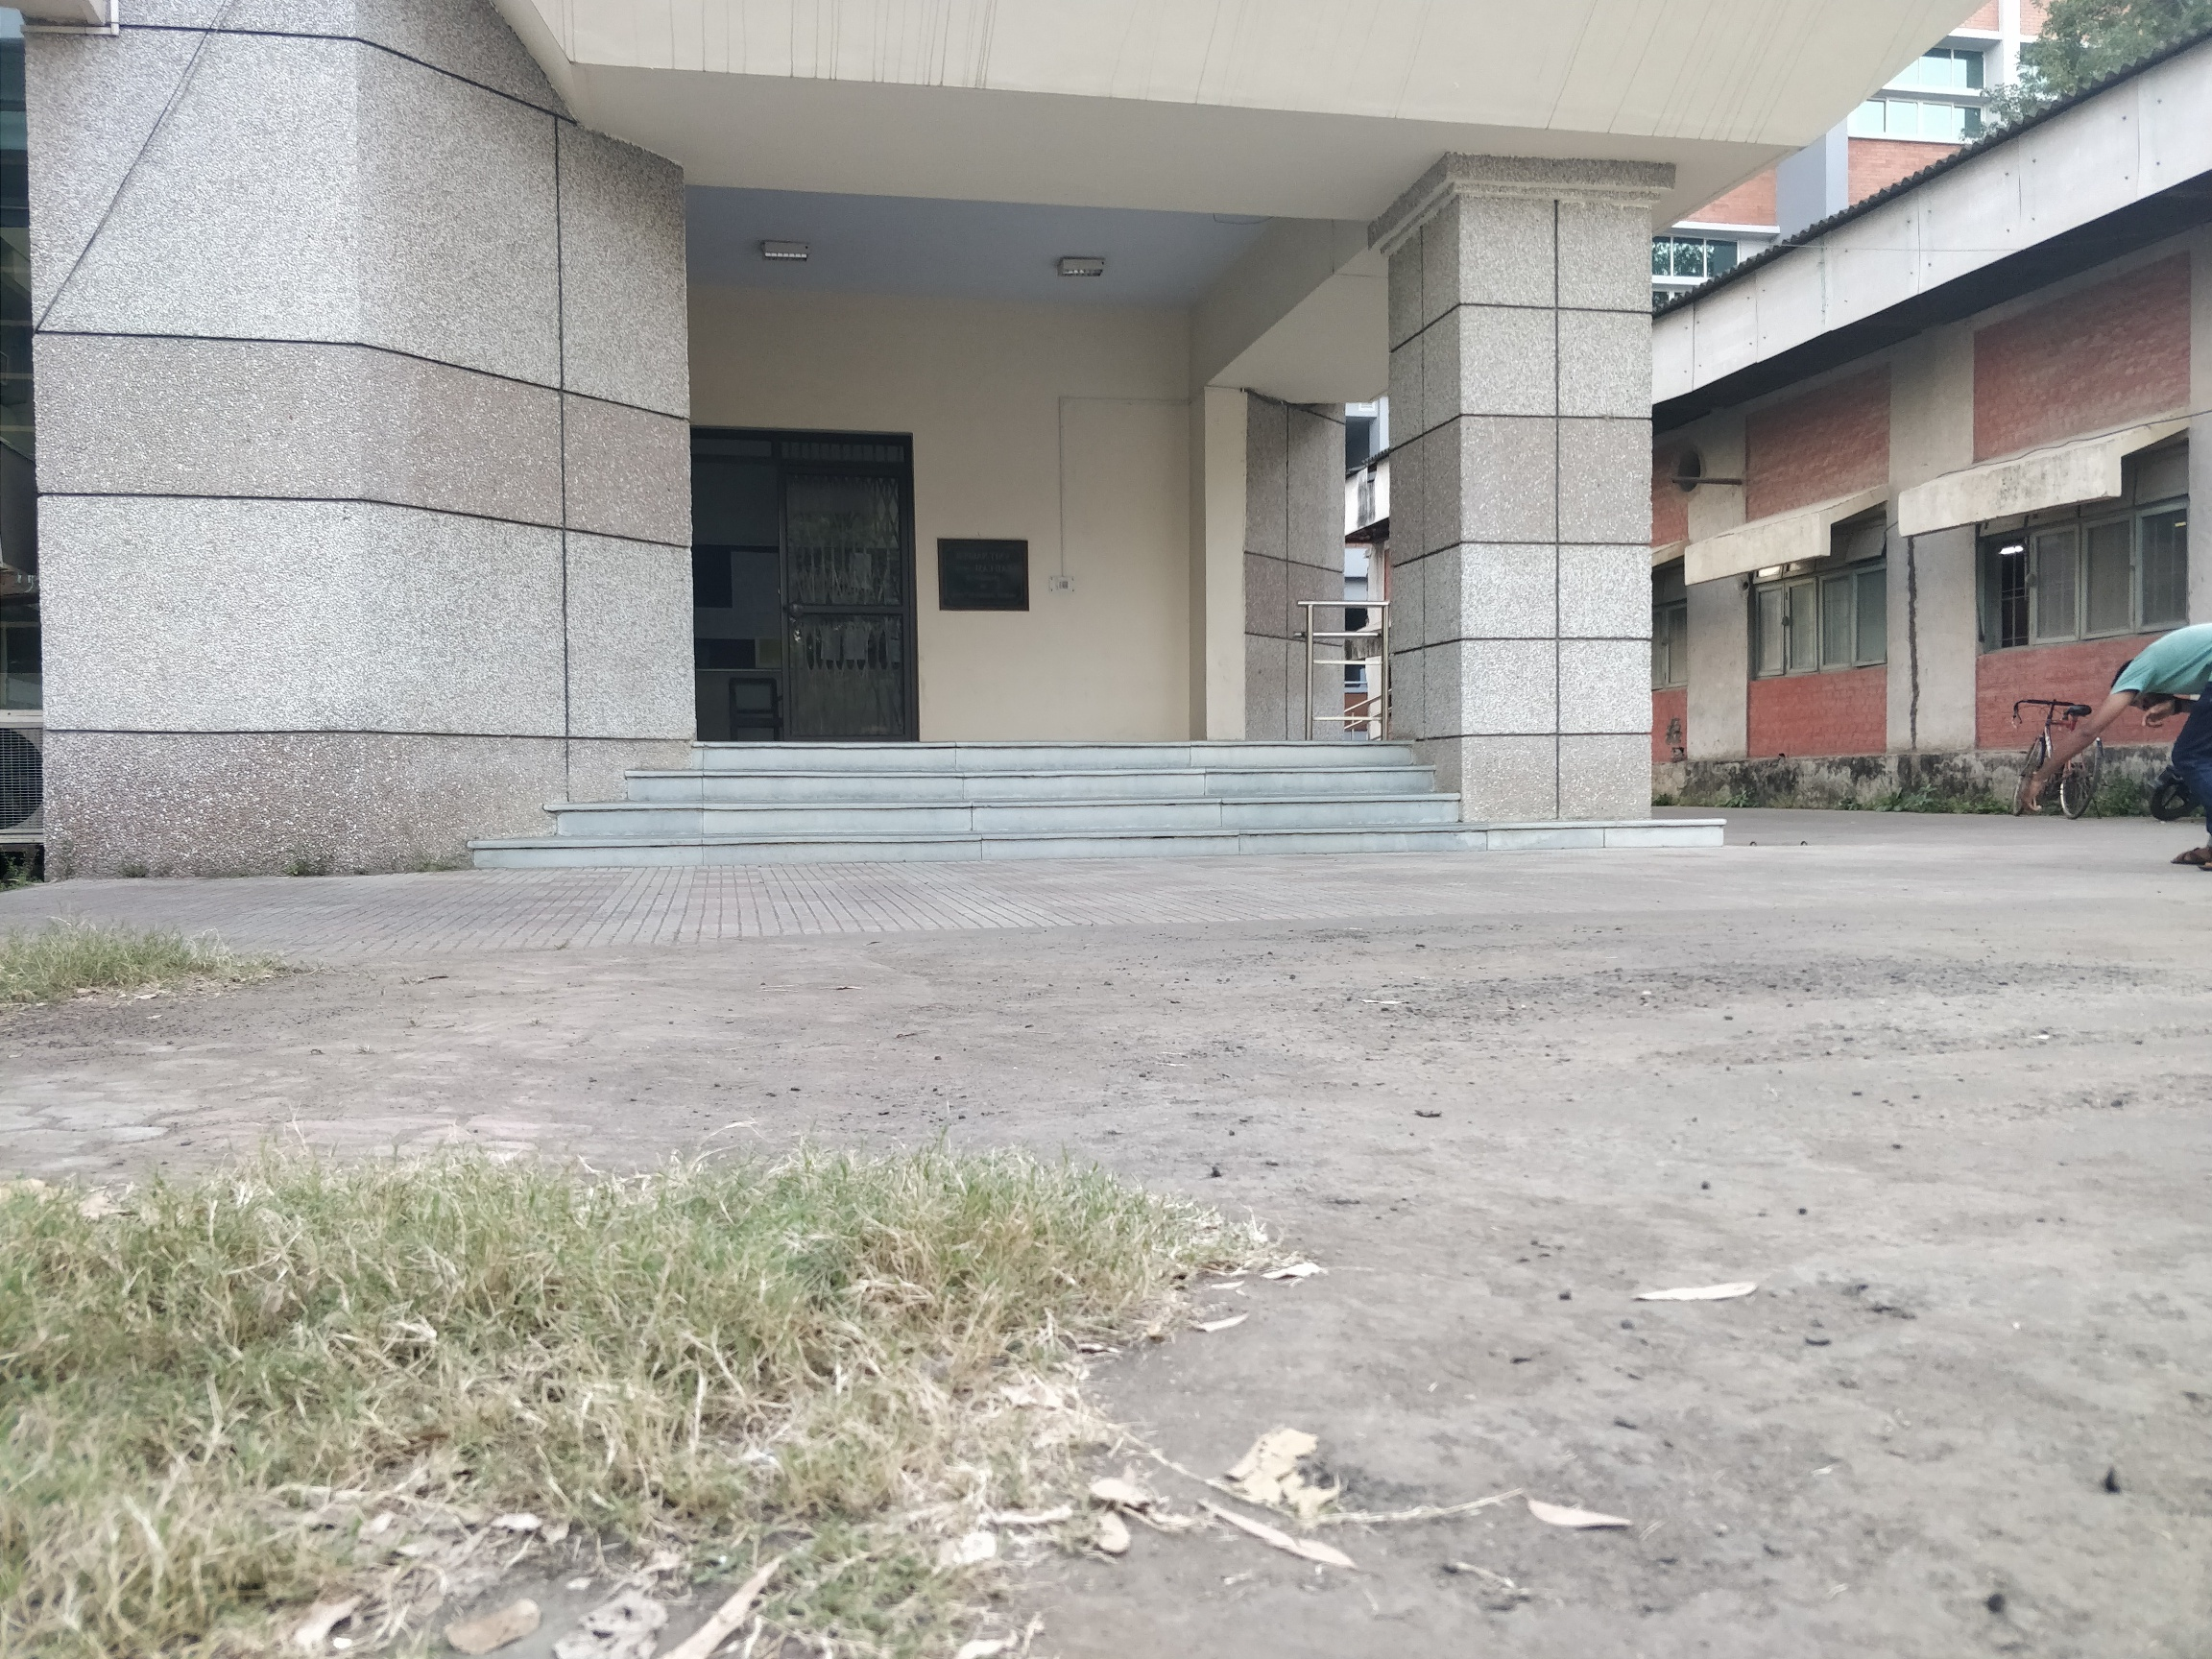stairs_up: (549, 737, 1456, 861)
